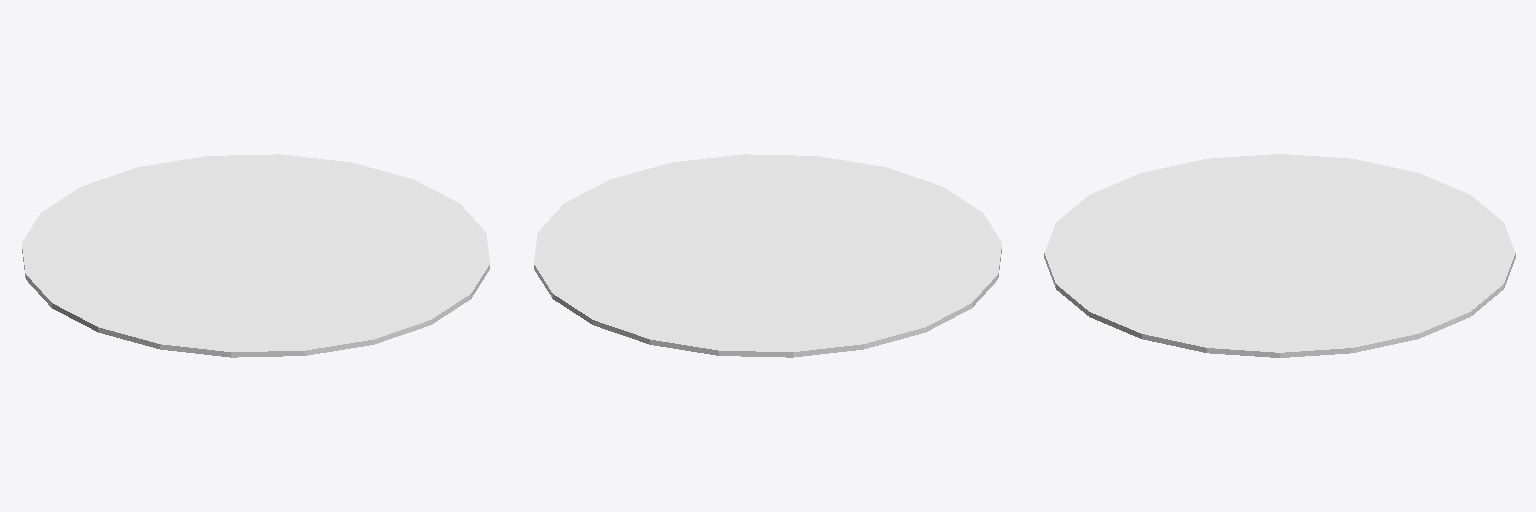
The model's file is TableTop.obj.
3 views of the same model, side by side, from view 1: azimuth 30°, elevation 25°; view 2: azimuth 150°, elevation 25°; view 3: azimuth 270°, elevation 25° (orthographic).
Visible parts, largest first — view 1: Cylinder; view 2: Cylinder; view 3: Cylinder.
Part boxes in pixels (left/top/right/bottom): Cylinder: left=22, top=154, right=489, bottom=357; Cylinder: left=534, top=154, right=1001, bottom=357; Cylinder: left=1044, top=154, right=1515, bottom=357.
Size of the model in its own units: 2 by 0.025 by 2.